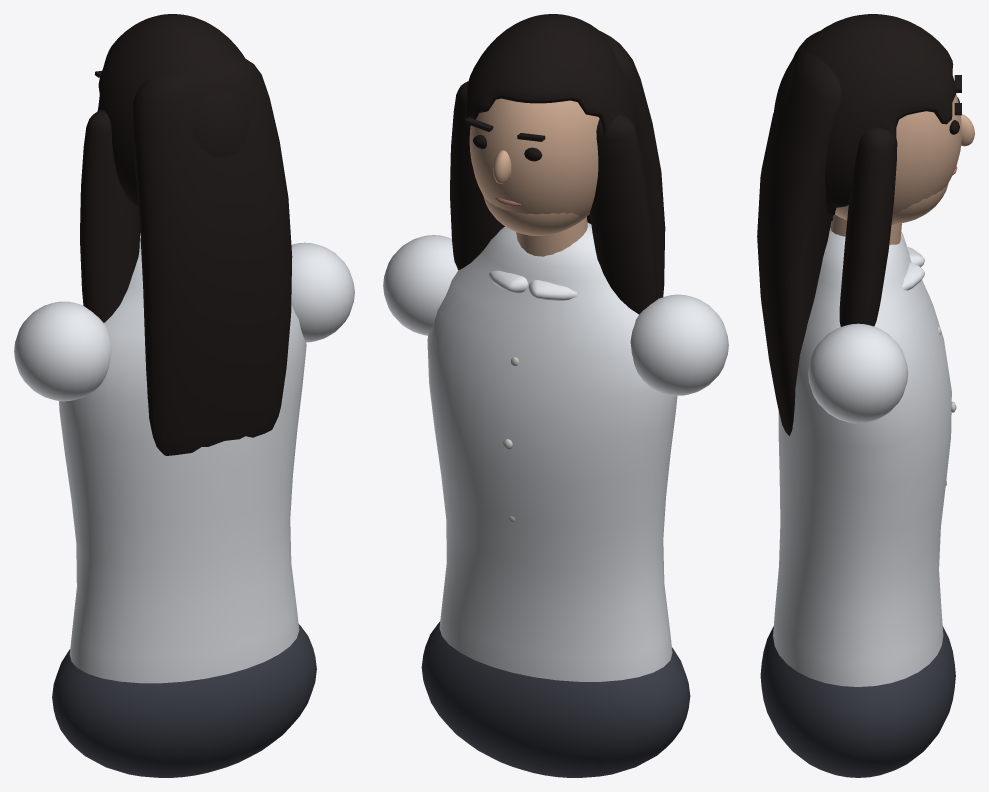
File: linh_than.glb
3 renders of one model, left to right at view 1: azimuth 30°, elevation 25°; view 2: azimuth 150°, elevation 25°; view 3: azimuth 270°, elevation 25°, orthographic.
Visible parts, largest first — view 1: linh_than; view 2: linh_than; view 3: linh_than.
Boxes of the visible parts, <box> form: linh_than: <box>14,14,354,777</box>; linh_than: <box>383,14,728,777</box>; linh_than: <box>757,14,974,777</box>.
Size of the model in its own units: 0.408 by 0.8805 by 0.2351.
